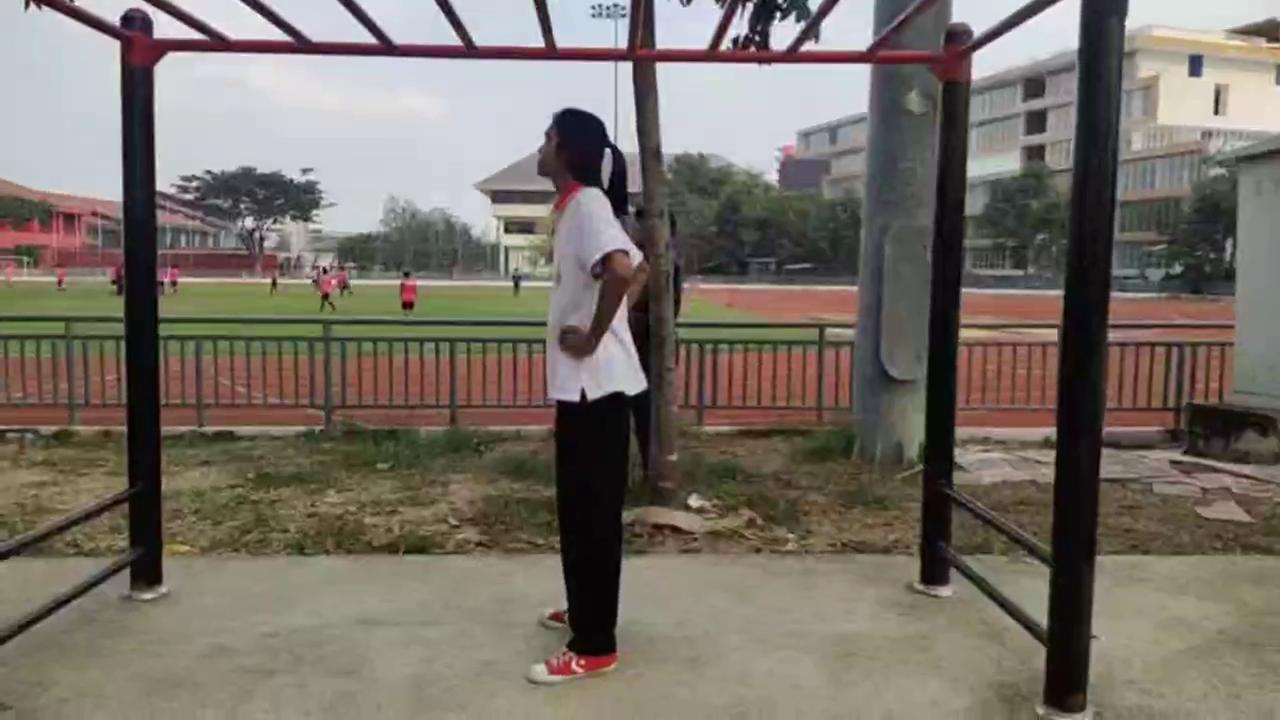squat up: (530, 110, 648, 686)
